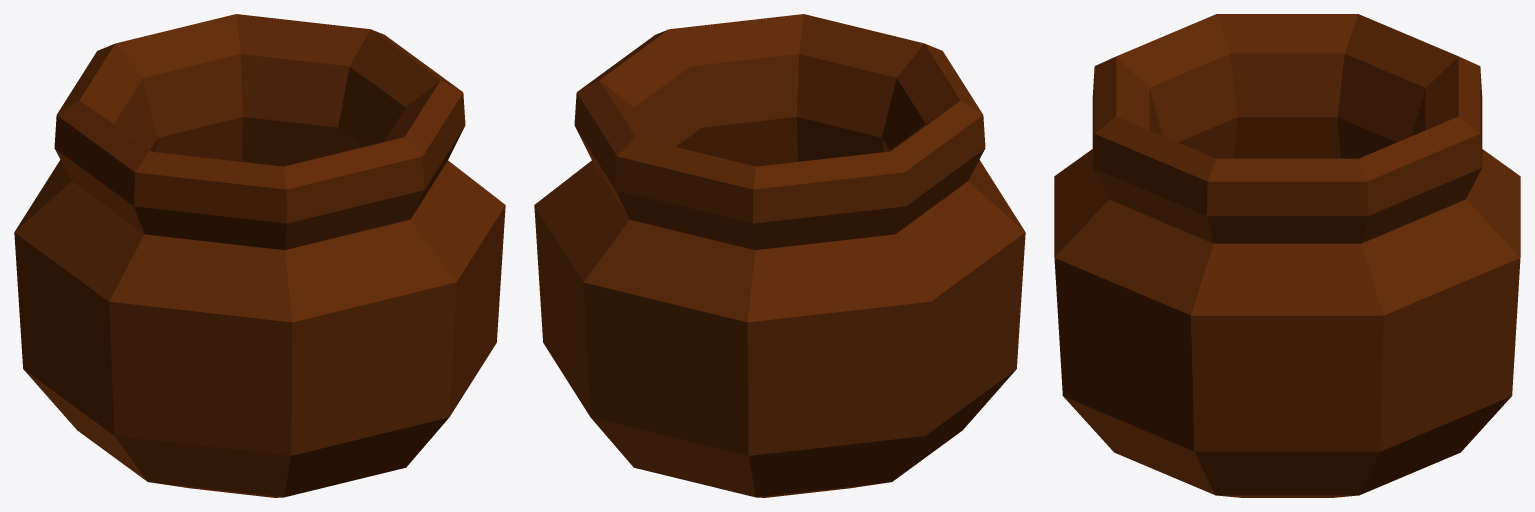
The model's file is SM_SM_Pottery_01.fbx.
The picture shows the model from 3 angles, left to right: view 1: azimuth 30°, elevation 25°; view 2: azimuth 150°, elevation 25°; view 3: azimuth 270°, elevation 25°; orthographic projection.
Visible parts, largest first — view 1: SM_Pottery_01; view 2: SM_Pottery_01; view 3: SM_Pottery_01.
Part boxes in pixels (left/top/right/bottom): SM_Pottery_01: left=14, top=14, right=505, bottom=497; SM_Pottery_01: left=534, top=14, right=1025, bottom=497; SM_Pottery_01: left=1054, top=14, right=1520, bottom=497.
Bounding box in the file's own units: 40.83 × 35.35 × 40.83.
